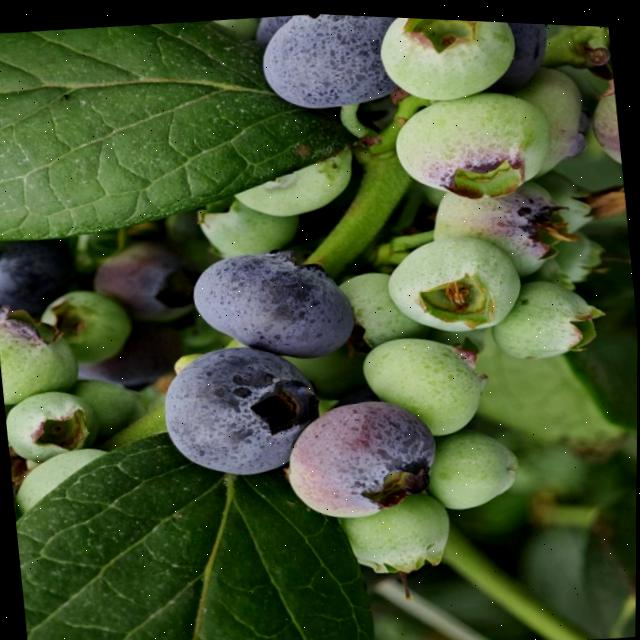RipeBlueBerry: (154, 331, 330, 485), (185, 233, 361, 366), (254, 9, 404, 114)
Semi-RipeBlueBerry: (279, 385, 444, 522)
UnripeBlueBerry: (387, 76, 561, 207), (379, 218, 528, 339), (360, 322, 495, 440), (426, 170, 566, 278), (375, 13, 523, 105), (485, 266, 599, 359), (337, 488, 458, 573), (421, 419, 523, 509), (3, 384, 100, 464)
